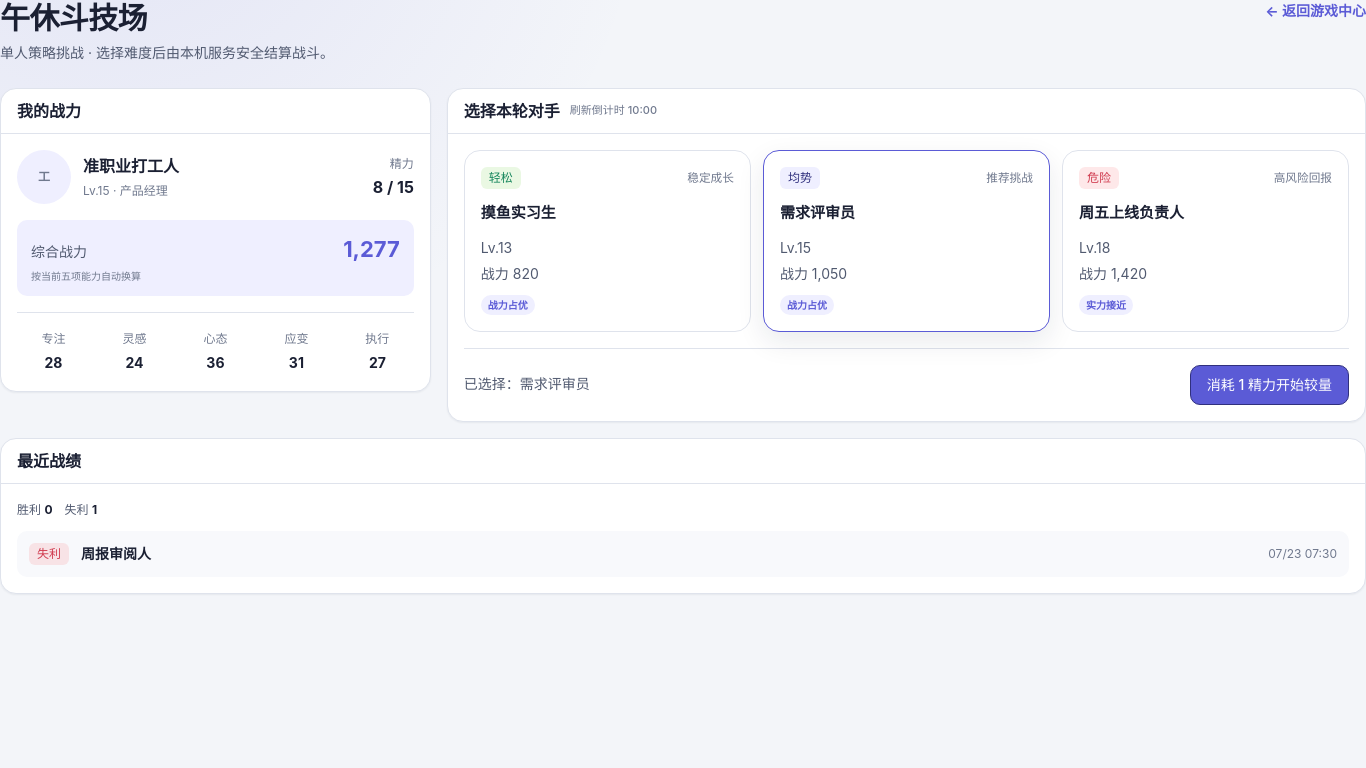
ArenaPage › 可以切换对手并开始较量，显示战报和奖励后刷新
Click the button "危险 高风险回报 周五上线负责人 Lv.18 战力 1,420 实力接近": [1099, 178] box [1062, 150, 1349, 332]
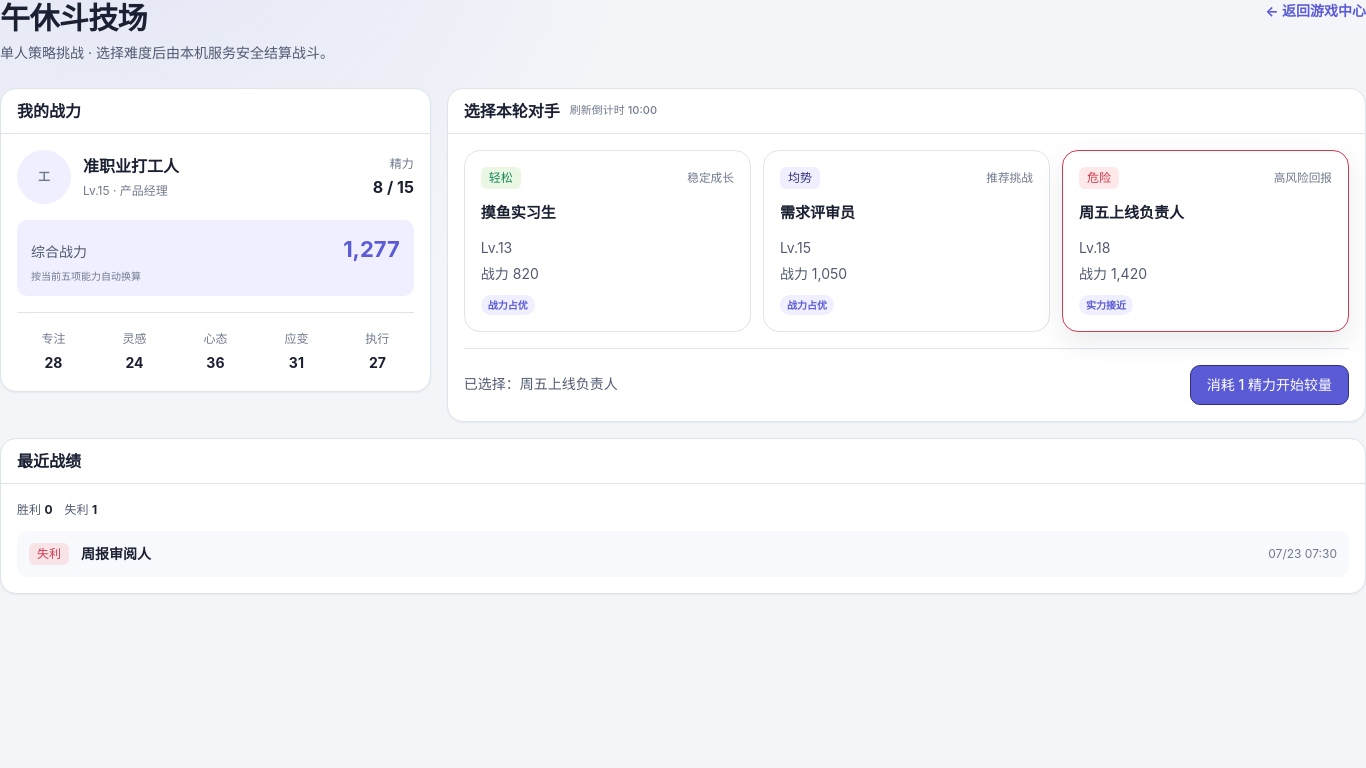
Click the button "消耗 1 精力开始较量": [1269, 385] box [1190, 365, 1349, 405]
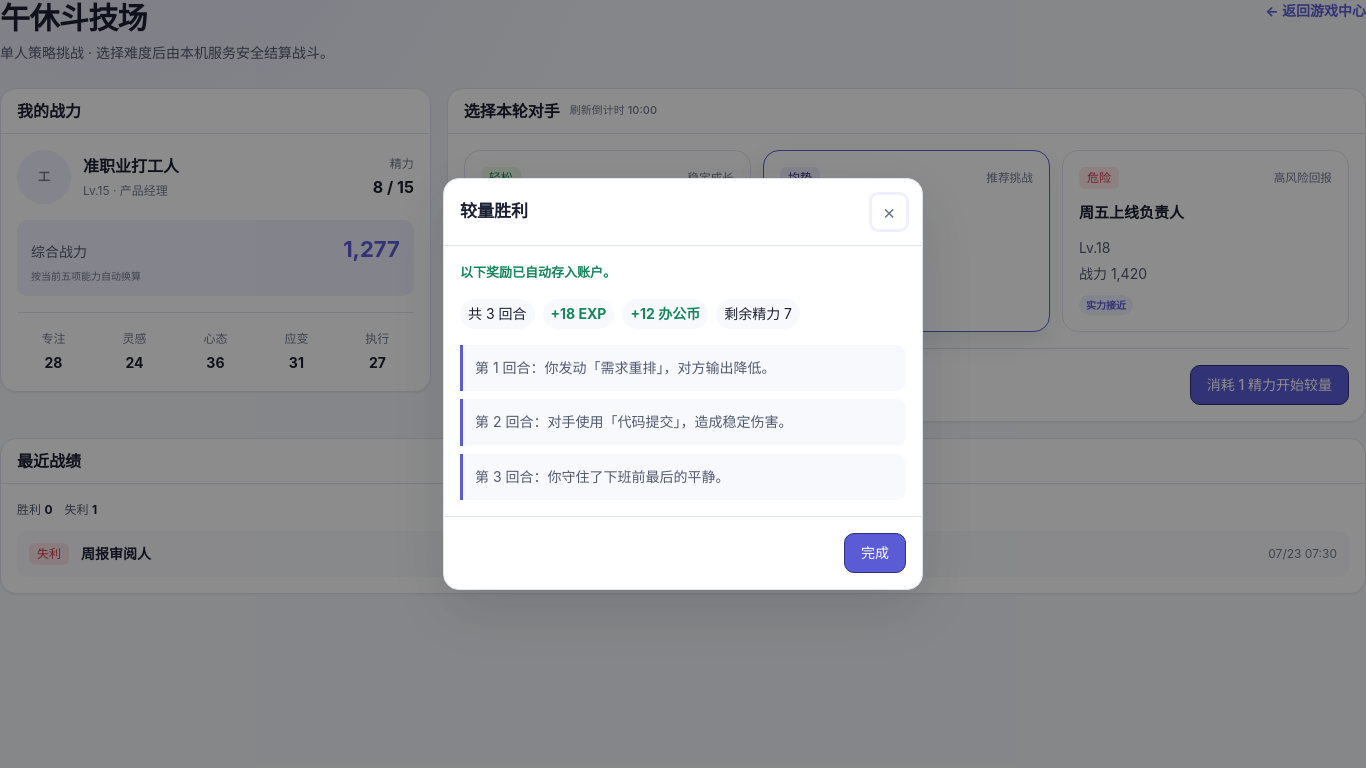
expect the dialog "较量胜利" is shown: met, box [443, 178, 923, 590]
expect the text "+18 EXP" is shown: met, box [542, 299, 614, 329]
expect the text "+12 办公币" is shown: met, box [622, 299, 708, 329]
